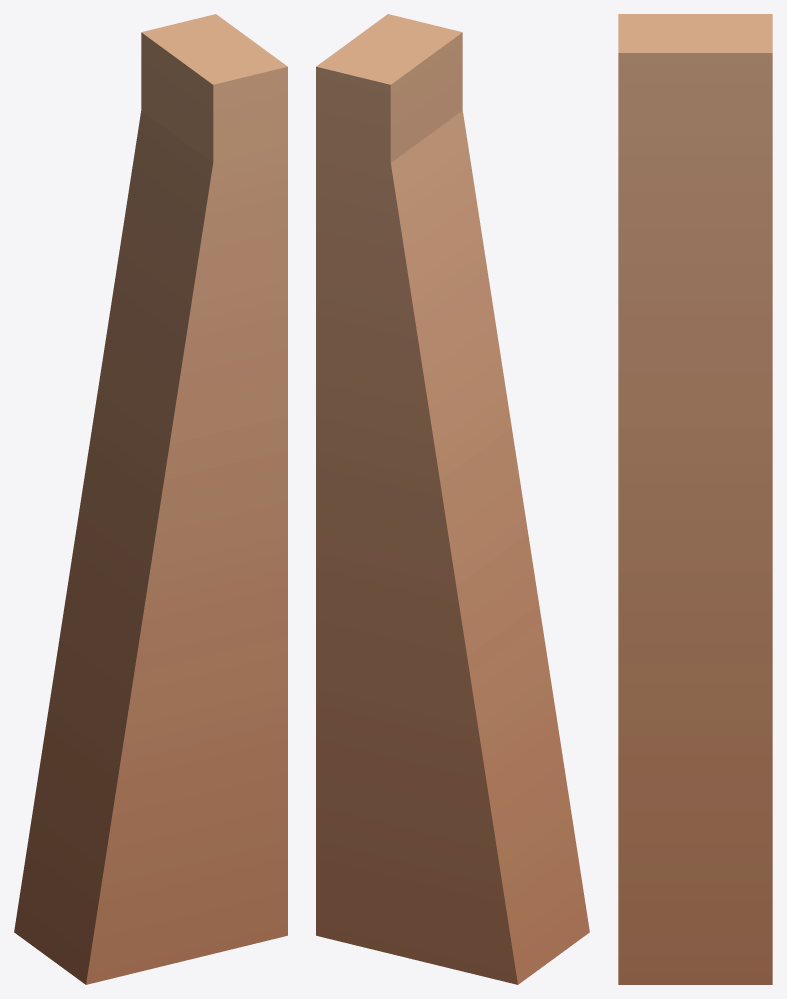
File: wall-stud.glb
3 renders of one model, left to right at view 1: azimuth 30°, elevation 25°; view 2: azimuth 150°, elevation 25°; view 3: azimuth 270°, elevation 25°, orthographic. The views are drawn at different scales.
Visible parts, largest first — view 1: wall-stud; view 2: wall-stud; view 3: wall-stud.
Part boxes in pixels (box(x1,y1,x2,y2)): wall-stud: box(14, 14, 287, 984); wall-stud: box(316, 14, 589, 984); wall-stud: box(618, 14, 772, 984).
Size of the model in its own units: 0.2699 by 1.11 by 0.1665.
Materials: 1 (1 with a texture image).
